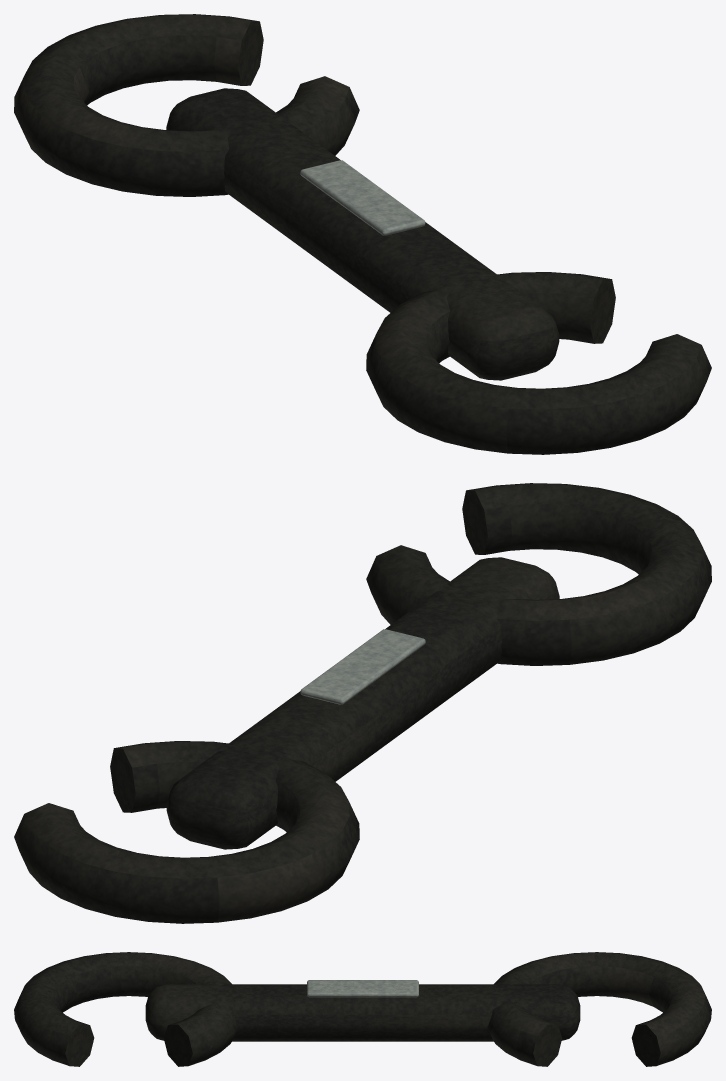
The model's file is Wrench.fbx.
3 renders of one model, top to bottom at view 1: azimuth 30°, elevation 25°; view 2: azimuth 150°, elevation 25°; view 3: azimuth 270°, elevation 25°, orthographic. The views are drawn at different scales.
Parts seen in each view (by area): view 1: Wrench_Iron, Wrench_Chrome; view 2: Wrench_Iron, Wrench_Chrome; view 3: Wrench_Iron, Wrench_Chrome.
Boxes of the visible parts, <box> form: Wrench_Iron: <box>14,14,711,454</box>; Wrench_Chrome: <box>300,160,425,235</box>; Wrench_Iron: <box>14,483,711,923</box>; Wrench_Chrome: <box>300,629,425,704</box>; Wrench_Iron: <box>14,952,711,1066</box>; Wrench_Chrome: <box>307,980,418,997</box>.
Size of the model in its own units: 12.64 by 3.15 by 41.77.
